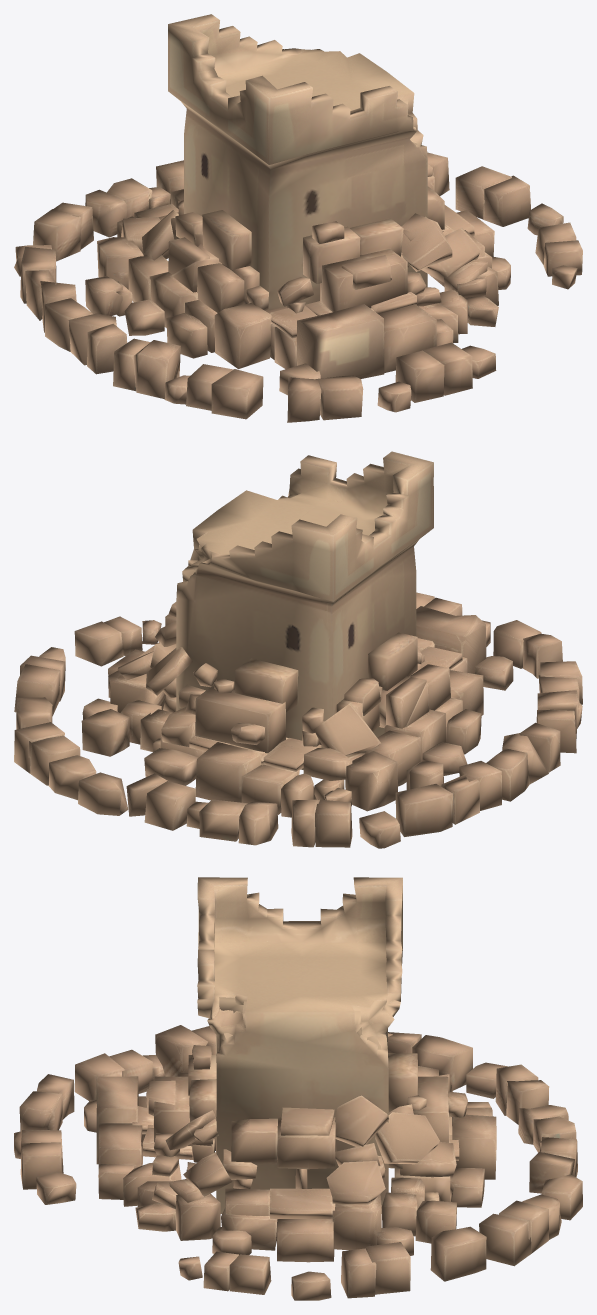
The model's file is meshy-c6-d4.glb.
The picture shows the model from 3 angles, top to bottom: view 1: azimuth 30°, elevation 25°; view 2: azimuth 150°, elevation 25°; view 3: azimuth 270°, elevation 25°; orthographic projection. The views are drawn at different scales.
Bounding box in the file's own units: 1 × 0.4981 × 0.9952.
1 material, 1 textured.
